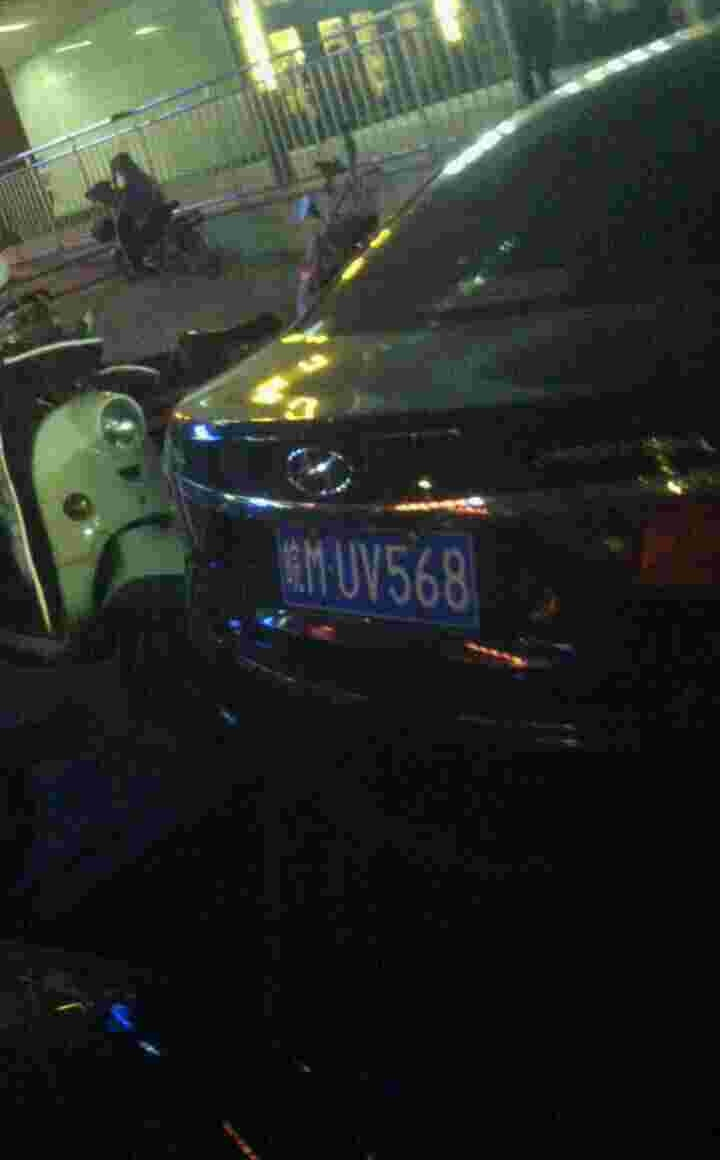plate: (267, 514, 479, 631)
